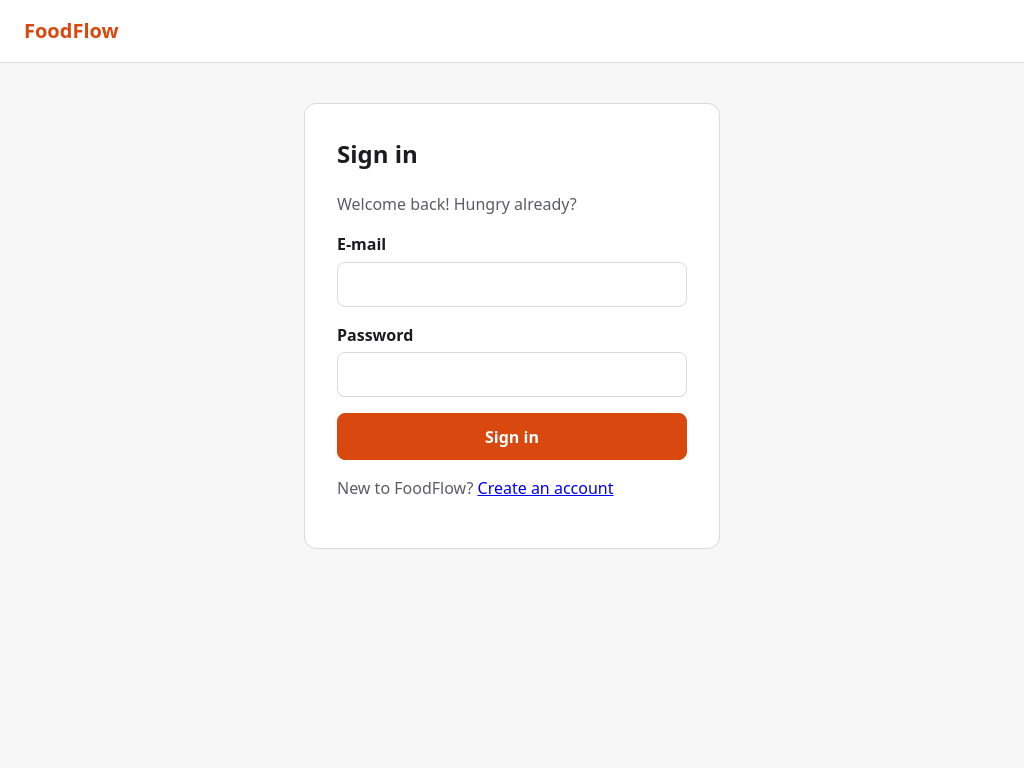
sign in › shows a generic message for wrong credentials
This screenshot has width=1024, height=768.
Type "jane@example.com" into the field labelled "E-mail" at (512, 284), box [337,262,687,307]
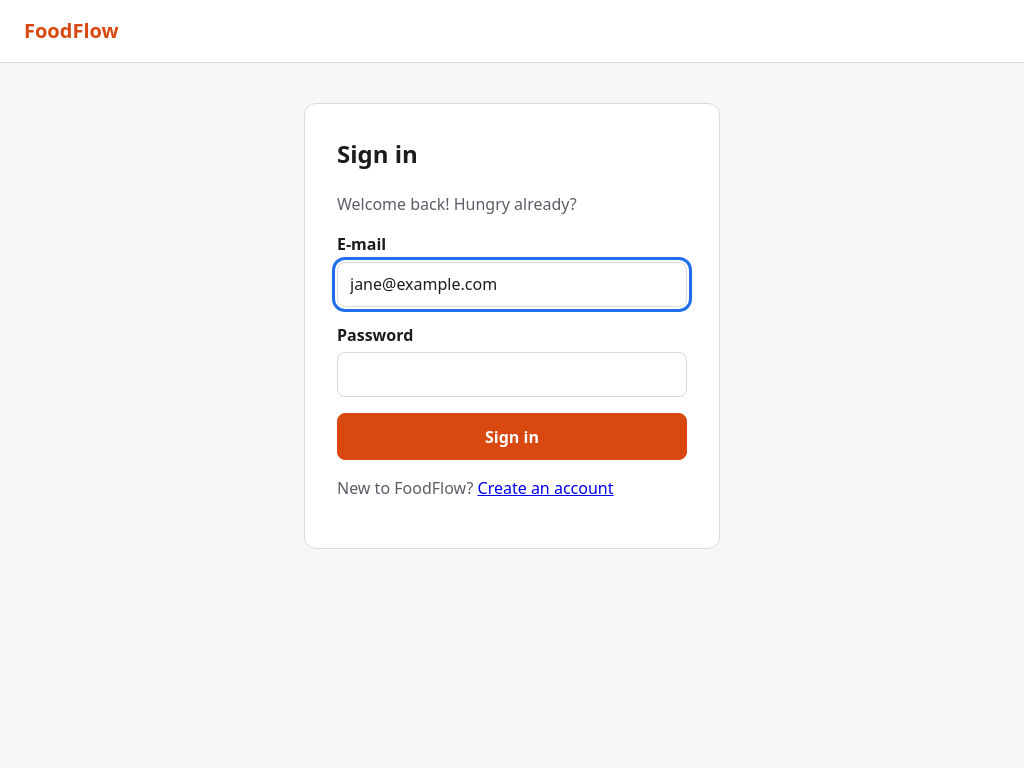
Type "wrong" into the password field labelled "Password" at (512, 375), box [337,352,687,398]
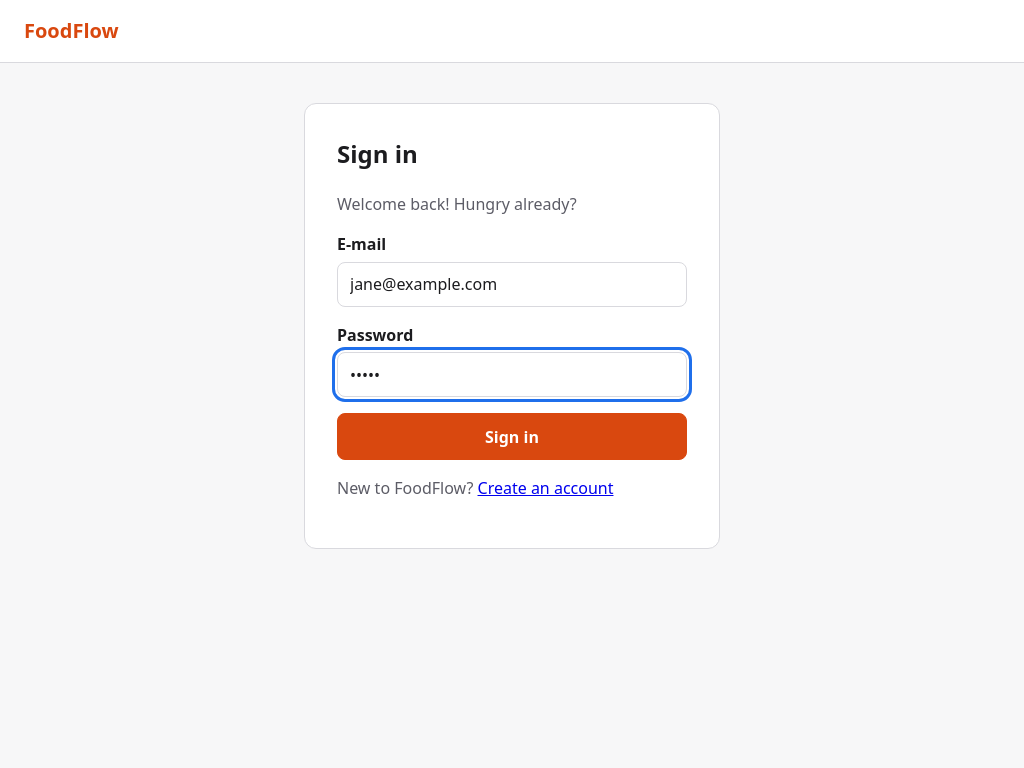
Click the button "Sign in" at (512, 437), box [337,414,687,460]
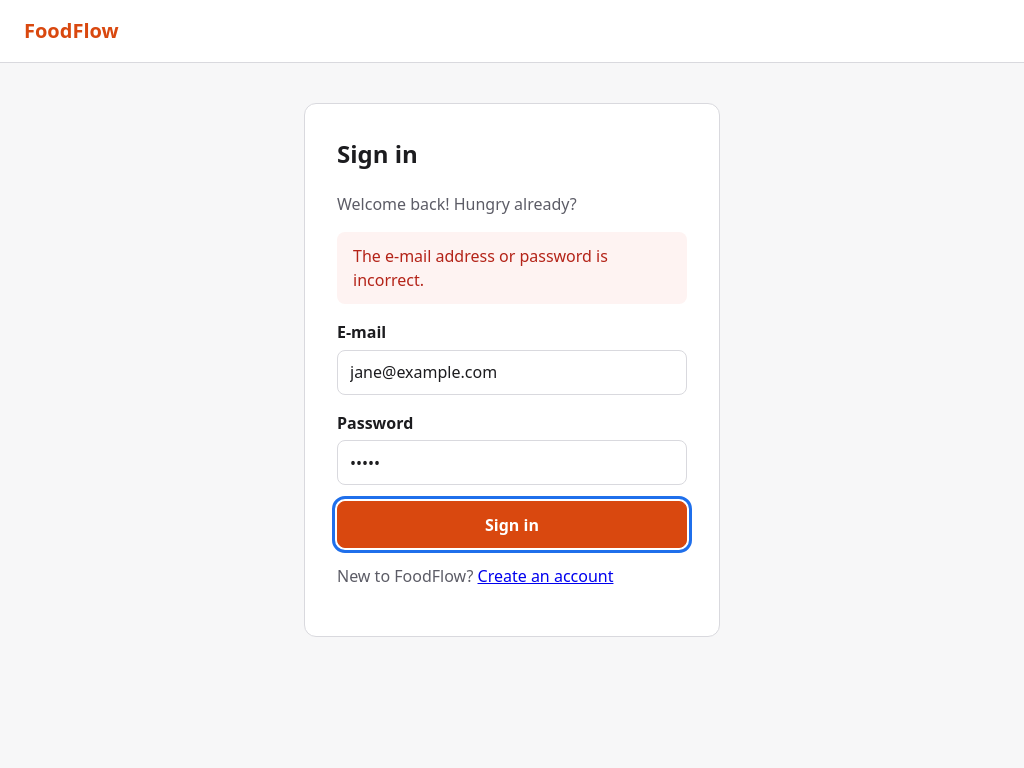
Now the message reads "The e-mail address or password is incorrect.", box [353,245,608,291]
